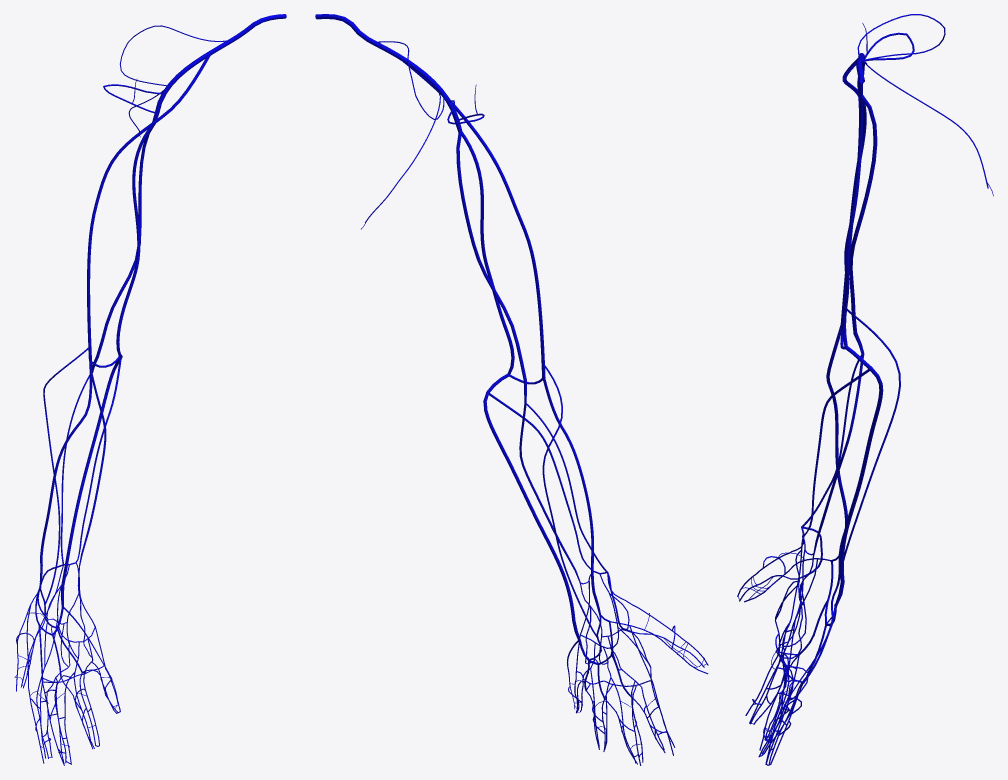
File: Upper limb Veins.fbx
3 views of the same model, side by side, from view 1: azimuth 30°, elevation 25°; view 2: azimuth 150°, elevation 25°; view 3: azimuth 270°, elevation 25° (orthographic). The views are drawn at different scales.
Visible parts, largest first — view 1: Cephalic_br6, Basilic, Dorsal_digital, Palmar_digital, Brachial, Axillary, Accessory_cephalic, Radial, Median_antebrachial, Ulnar_; view 2: Cephalic_br6, Basilic, Dorsal_digital, Palmar_digital, Brachial, Axillary, Accessory_cephalic; view 3: Basilic, Dorsal_digital, Palmar_digital, Cephalic_br6, Brachial, Accessory_cephalic, Ulnar_, Radial, Median_antebrachial.
Boxes of the visible parts, box(x1,y1,x2,y2) form: Cephalic_br6: box(37, 55, 210, 634); Basilic: box(60, 123, 155, 606); Dorsal_digital: box(14, 565, 119, 765); Palmar_digital: box(22, 617, 120, 764); Brachial: box(92, 126, 153, 372); Axillary: box(152, 22, 255, 124); Accessory_cephalic: box(43, 346, 91, 604); Radial: box(37, 375, 89, 617); Median_antebrachial: box(64, 359, 121, 569); Ulnar_: box(78, 373, 106, 570); Cephalic_br6: box(403, 62, 610, 663); Basilic: box(461, 131, 580, 641); Dorsal_digital: box(567, 575, 708, 765); Palmar_digital: box(572, 629, 706, 762); Brachial: box(456, 133, 526, 404); Axillary: box(350, 22, 462, 132); Accessory_cephalic: box(541, 362, 596, 637); Basilic: box(835, 93, 883, 607); Dorsal_digital: box(737, 537, 836, 765); Palmar_digital: box(738, 575, 798, 765); Cephalic_br6: box(826, 58, 866, 623); Brachial: box(849, 95, 877, 355); Accessory_cephalic: box(836, 309, 900, 587); Ulnar_: box(805, 354, 864, 555); Radial: box(799, 354, 861, 578); Median_antebrachial: box(801, 369, 870, 549).
Bounding box in the file's own units: 37.52 × 75.11 × 20.78.
